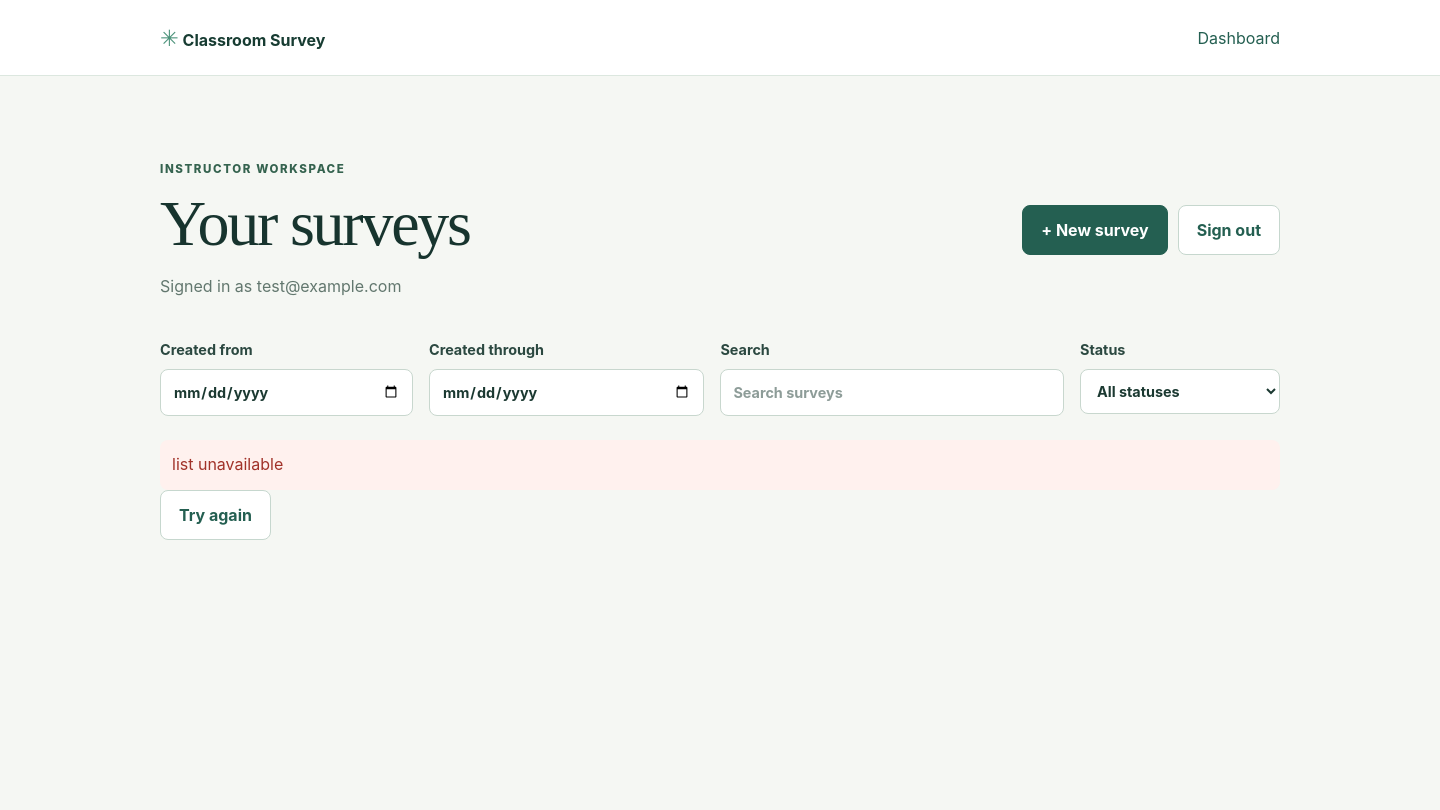
Test: instructor dashboard › retries a failed list load without showing a false empty state
The width and height of the screenshot is (1440, 810).
Check: the message "list unavailable" is shown, box [160,440,1280,490]
Click the button "Try again" at (216, 515), box [160,490,271,540]
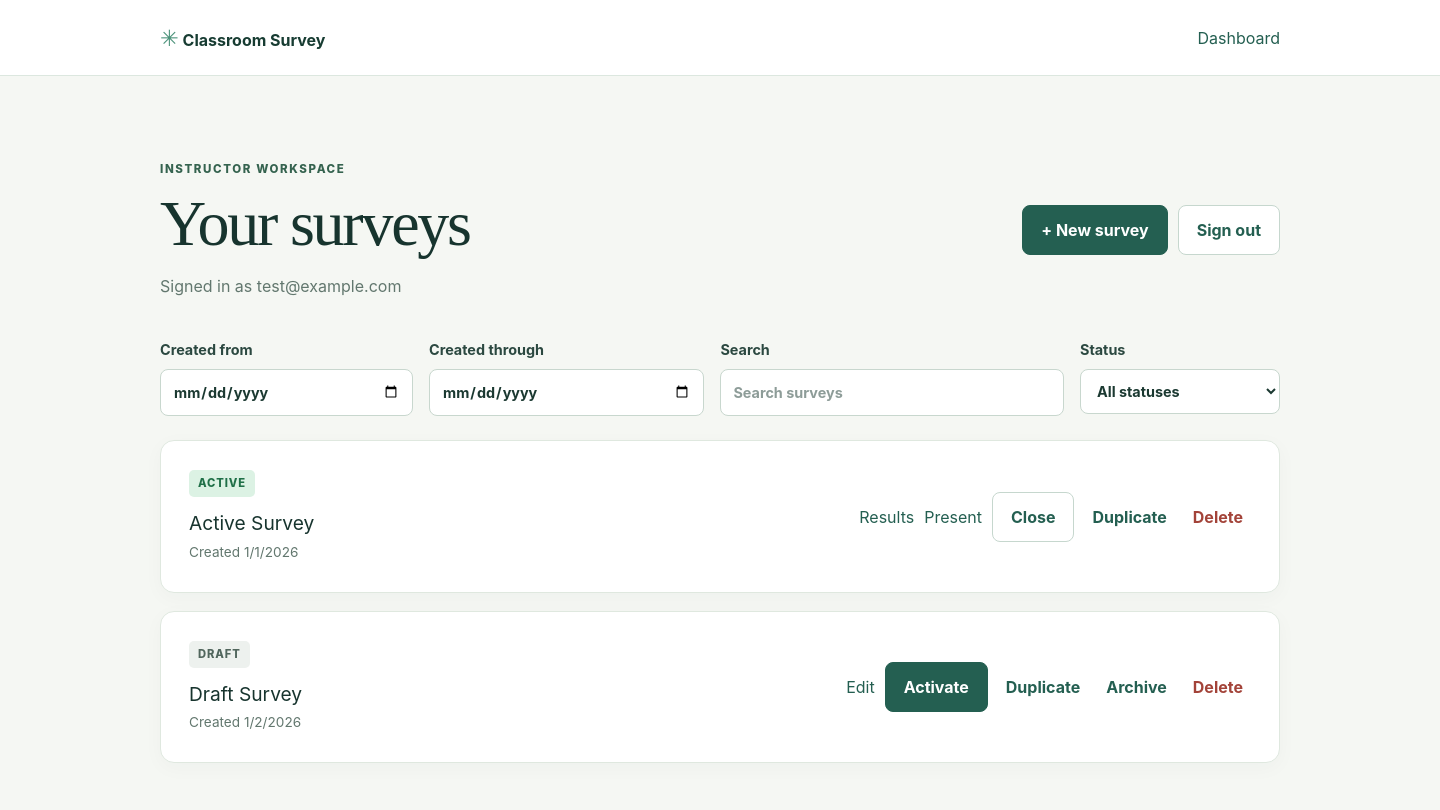
Check: the heading "Draft Survey" is shown, box [189,680,302,708]
Check: the message "list unavailable" is gone
